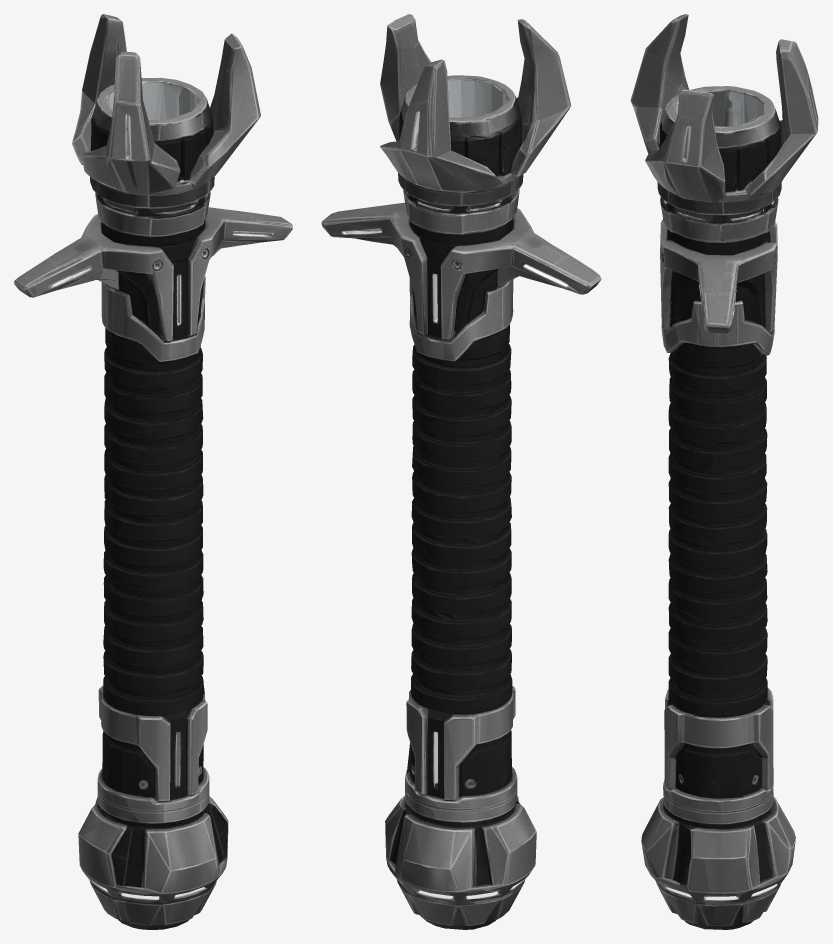
Rendered from hilt.glb.
3 views of the same model, side by side, from view 1: azimuth 30°, elevation 25°; view 2: azimuth 150°, elevation 25°; view 3: azimuth 270°, elevation 25° (orthographic).
Bounding box in the file's own units: 0.6063 × 1.9 × 0.3692.
1 material, 1 textured.
